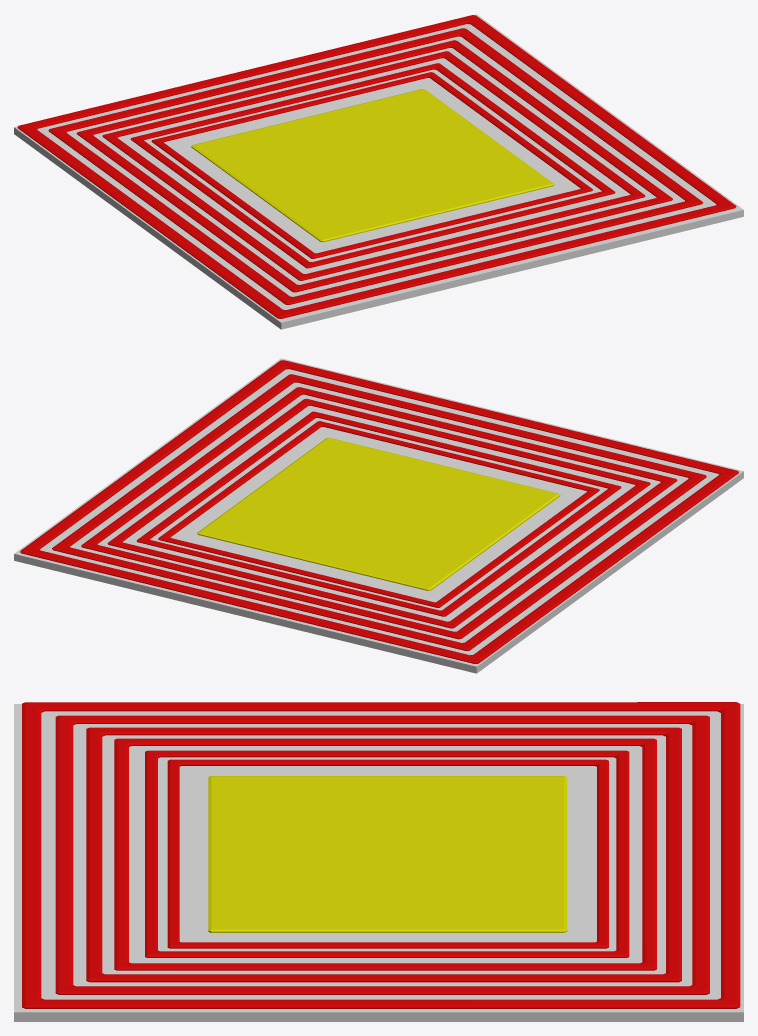
Rendered from P_Floor_2.fbx.
3 views of the same model, one above another, from view 1: azimuth 30°, elevation 25°; view 2: azimuth 150°, elevation 25°; view 3: azimuth 270°, elevation 25° (orthographic). The views are drawn at different scales.
Visible parts, largest first — view 1: P_Floor_2; view 2: P_Floor_2; view 3: P_Floor_2.
Part boxes in pixels (<box>): P_Floor_2: <box>14,14,743,329</box>; P_Floor_2: <box>14,358,743,673</box>; P_Floor_2: <box>14,702,743,1021</box>.
Bounding box in the file's own units: 700 × 13.49 × 700.
